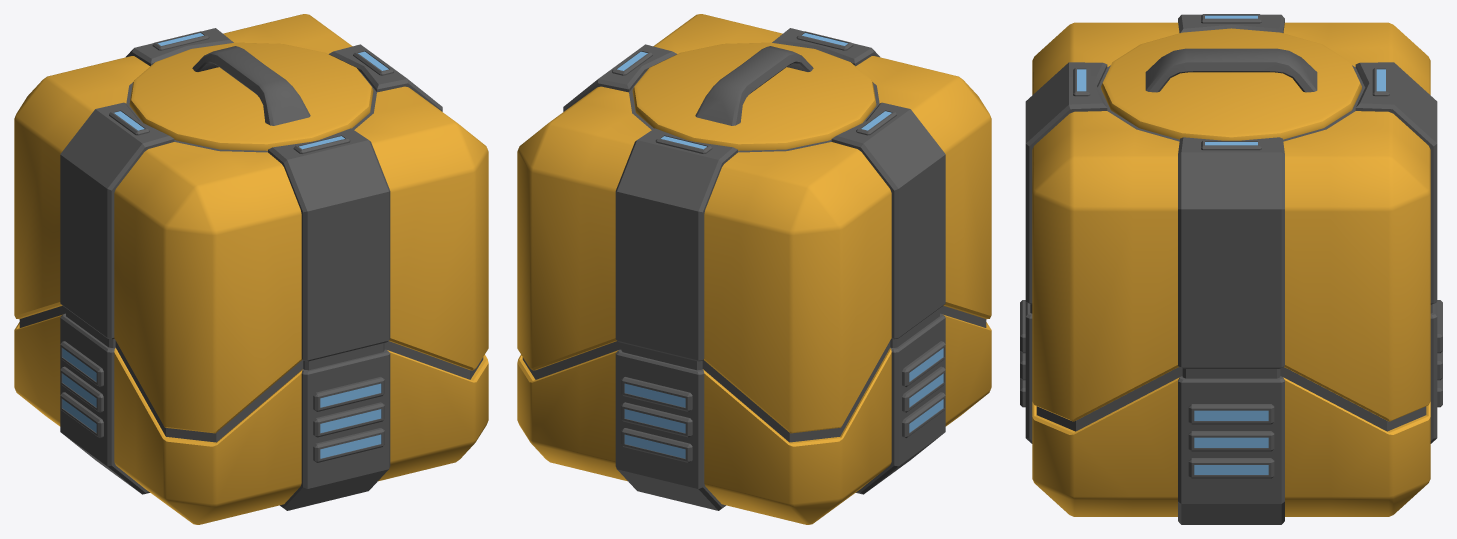
File: interactible_crate.glb
3 views of the same model, side by side, from view 1: azimuth 30°, elevation 25°; view 2: azimuth 150°, elevation 25°; view 3: azimuth 270°, elevation 25° (orthographic). The views are drawn at different scales.
Visible parts, largest first — view 1: CrateTop, CrateBottom; view 2: CrateTop, CrateBottom; view 3: CrateTop, CrateBottom.
Boxes of the visible parts, left/top/right/bottom form: CrateTop: left=14, top=14, right=488, bottom=437; CrateBottom: left=14, top=310, right=488, bottom=524; CrateTop: left=517, top=14, right=991, bottom=437; CrateBottom: left=517, top=310, right=991, bottom=524; CrateTop: left=1025, top=14, right=1437, bottom=425; CrateBottom: left=1020, top=300, right=1442, bottom=524.
Size of the model in its own units: 2.12 by 2.23 by 2.12.
